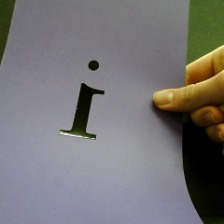violet1: (56, 55, 111, 145)
